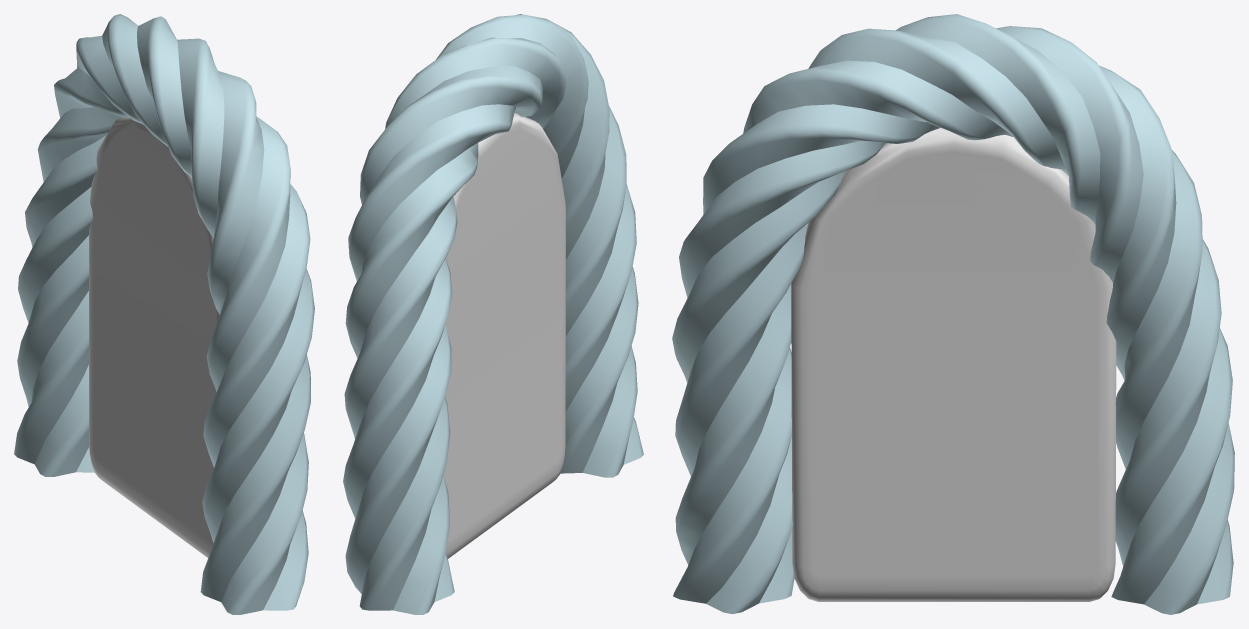
Rendered from New Door.fbx.
The picture shows the model from 3 angles, left to right: view 1: azimuth 30°, elevation 25°; view 2: azimuth 150°, elevation 25°; view 3: azimuth 270°, elevation 25°; orthographic projection. The views are drawn at different scales.
Parts seen in each view (by area): view 1: Door_Base_2, Door; view 2: Door_Base_2, Door; view 3: Door_Base_2, Door.
Boxes of the visible parts, x1,y1,x2,y2 form: Door_Base_2: (14,14,314,614); Door: (89,117,219,557); Door_Base_2: (343,14,643,614); Door: (443,112,565,558); Door_Base_2: (672,14,1234,614); Door: (791,128,1116,601).
Bounding box in the file's own units: 47.84 × 210 × 188.
